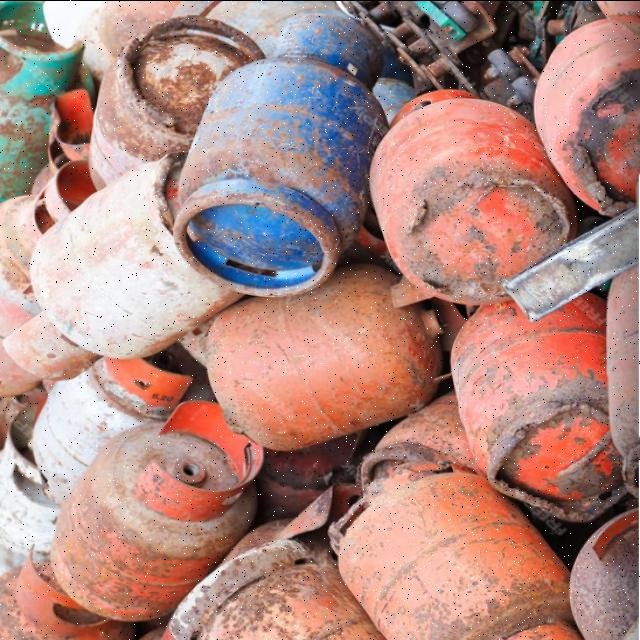cylinder: (170, 7, 388, 299), (205, 263, 465, 450), (50, 399, 264, 620)
